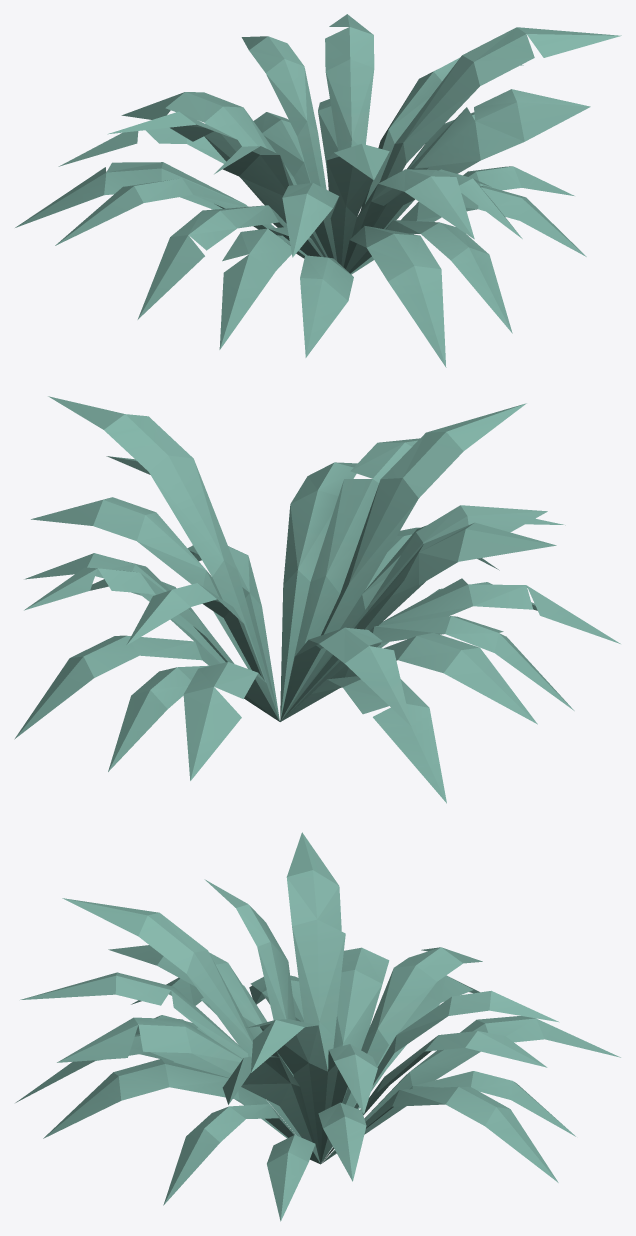
File: bush_fern.glb
3 views of the same model, one above another, from view 1: azimuth 30°, elevation 25°; view 2: azimuth 150°, elevation 25°; view 3: azimuth 270°, elevation 25° (orthographic). The views are drawn at different scales.
Visible parts, largest first — view 1: Plant_4_A; view 2: Plant_4_A; view 3: Plant_4_A.
Part boxes in pixels (x1,y1,x2,y2): Plant_4_A: [15, 14, 621, 367]; Plant_4_A: [14, 396, 620, 803]; Plant_4_A: [15, 832, 620, 1221].
Size of the model in its own units: 0.7775 by 0.3285 by 0.806.
Materials: 1 (1 with a texture image).
